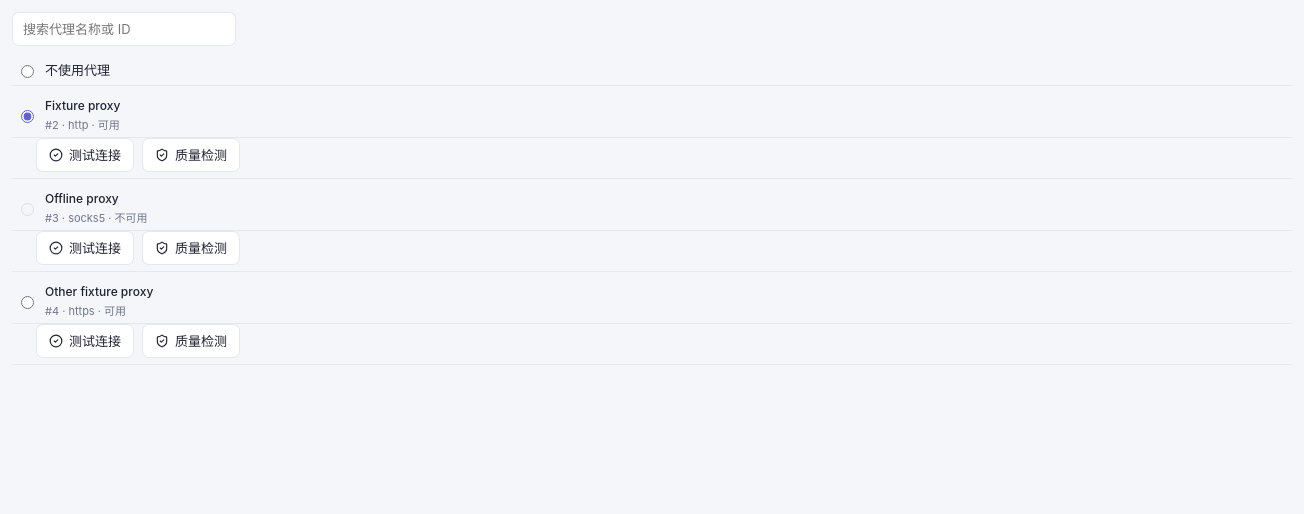
shared proxy options › runs quality checks once and renders the safe per-target result
The image size is (1304, 514).
Click the button "质量检测" below "https" at (191, 341), box x1=142 y1=324 x2=240 y2=358
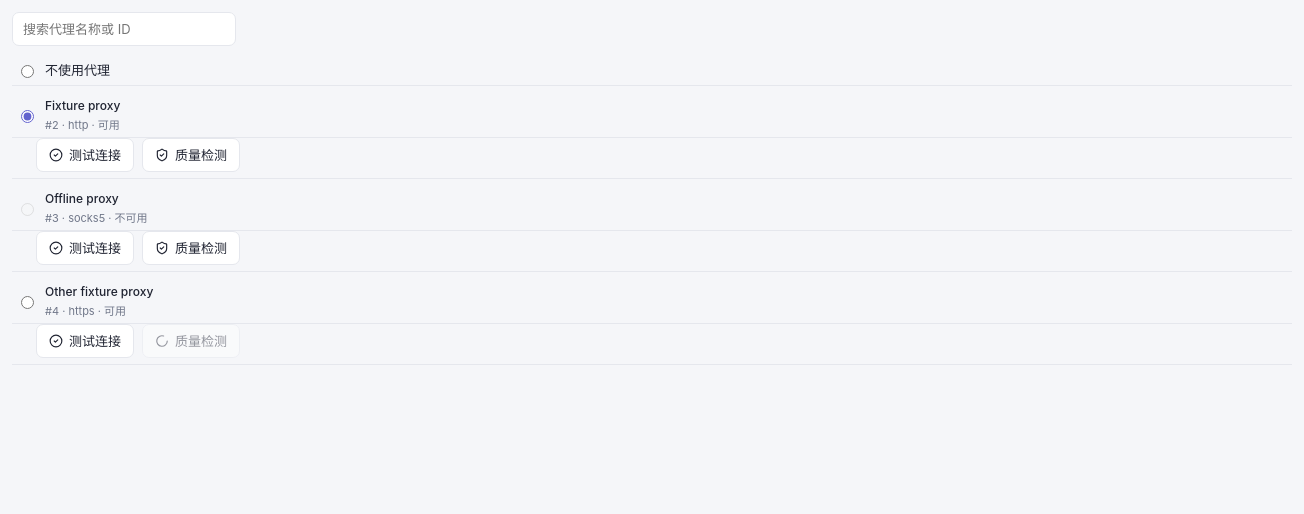
Click the button "质量检测" below "https" at (191, 341), box x1=142 y1=324 x2=240 y2=358
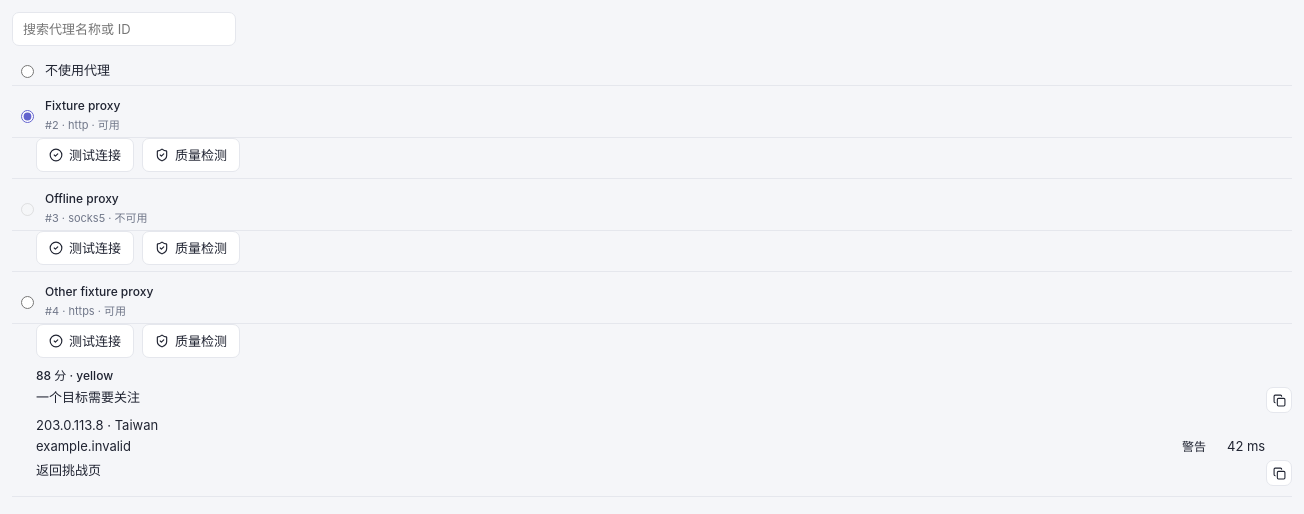
Result: the text "88 分 · yellow" is shown at x1=36 y1=368 x2=113 y2=383
Result: the text "example.invalid" is shown at x1=36 y1=438 x2=131 y2=454
Result: the text "返回挑战页" is shown at x1=36 y1=462 x2=101 y2=478
